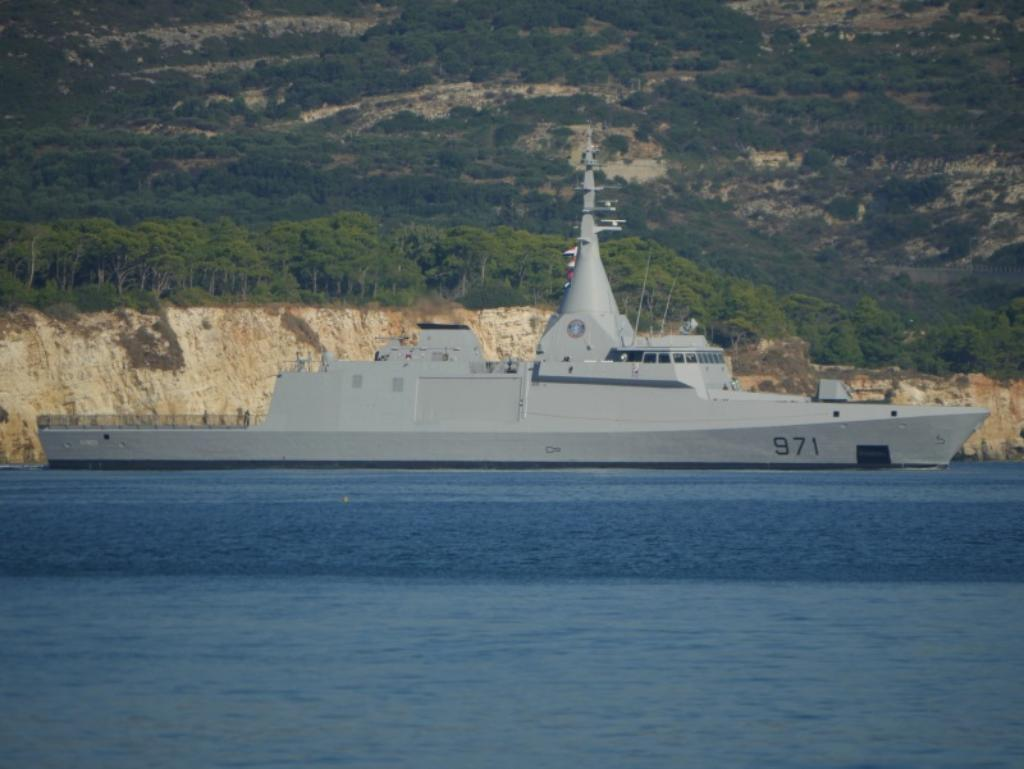Warship: (33, 132, 995, 470)
